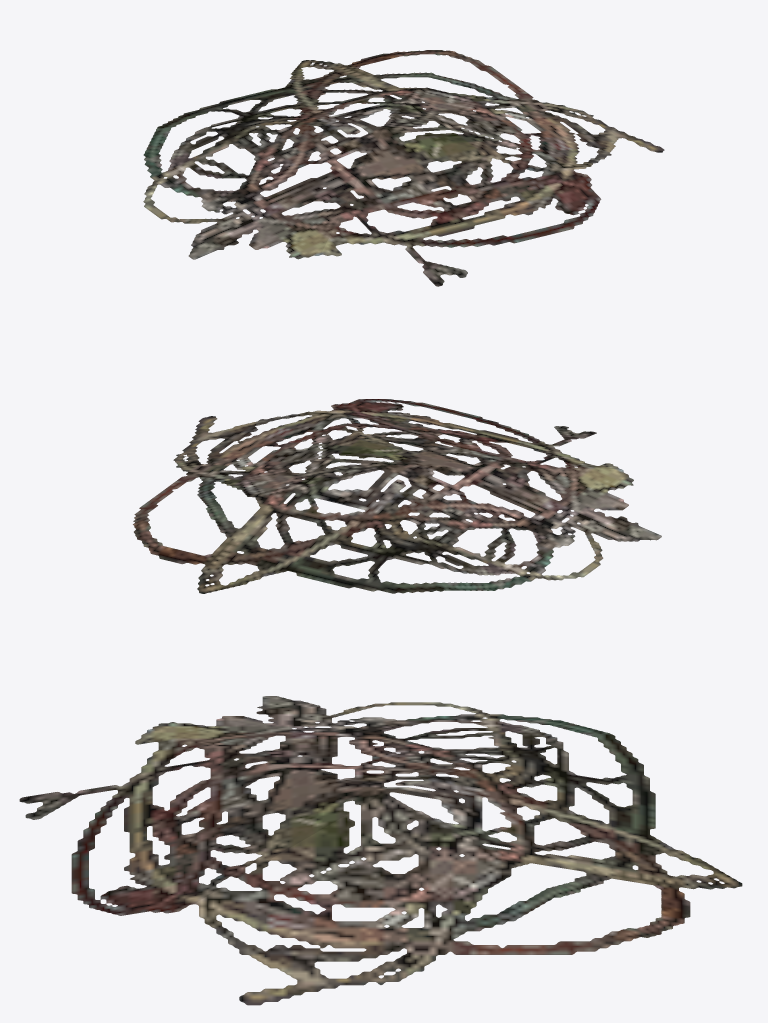
File: wires.fbx
The picture shows the model from 3 angles, top to bottom: view 1: azimuth 30°, elevation 25°; view 2: azimuth 150°, elevation 25°; view 3: azimuth 270°, elevation 25°; orthographic projection. The views are drawn at different scales.
Parts seen in each view (by area): view 1: mesh_0; view 2: mesh_0; view 3: mesh_0.
Boxes of the visible parts, <box> form: mesh_0: <box>143,50,664,286</box>; mesh_0: <box>133,399,661,593</box>; mesh_0: <box>19,696,742,1005</box>.
Bounding box in the file's own units: 80 × 7.07 × 80.
Materials: 1 (1 with a texture image).
